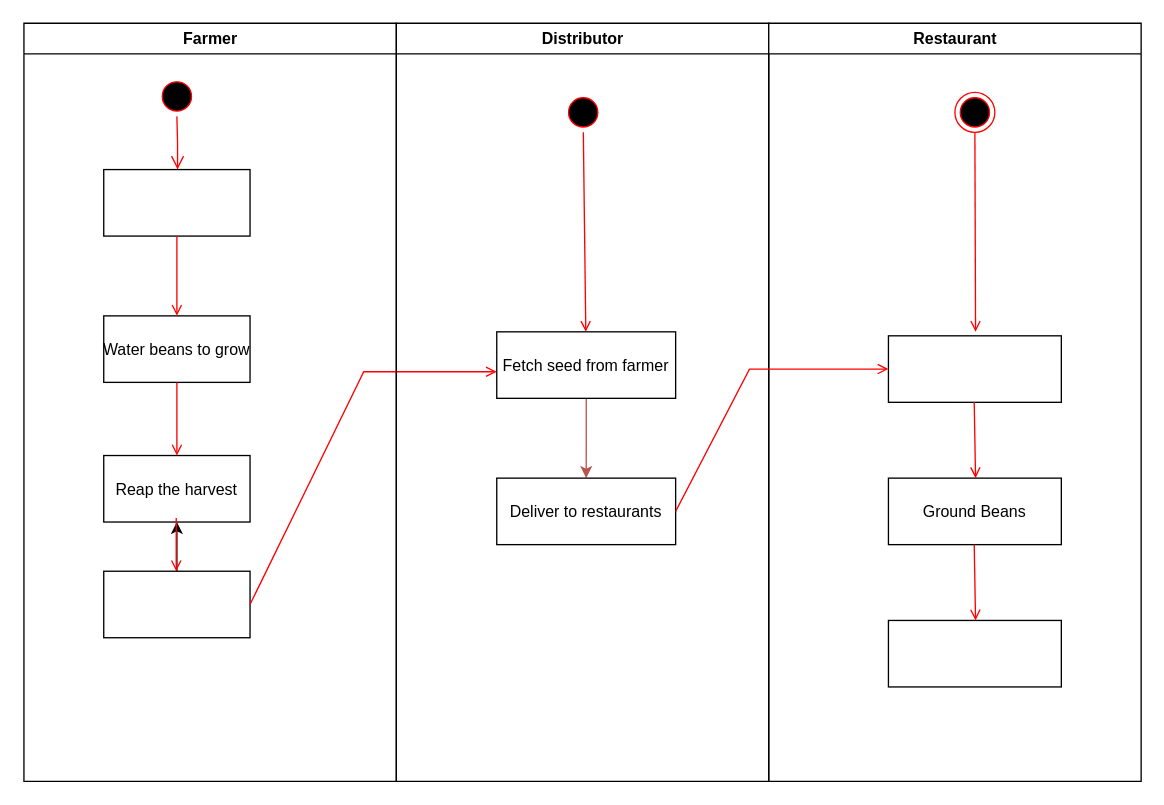
This 1164x805 diagram has some shape labels left out. Here are the shapes that lost their labels. From the top down, the centre of each, then its label:
At pixel 176 202: "Plant Seed".
At pixel 974 368: "Take delivery of Beans".
At pixel 176 604: "Contact distributor".
At pixel 974 653: "Make Coffee".
